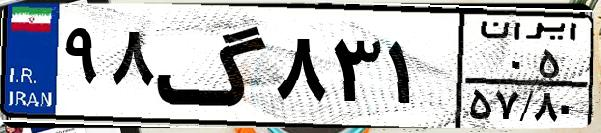0: (560, 70, 590, 125), (508, 27, 537, 80)
1: (385, 28, 445, 110)
3: (330, 28, 385, 110)
5: (537, 27, 568, 80), (470, 70, 495, 125)
7: (495, 70, 520, 125)
8: (270, 28, 330, 110), (110, 28, 156, 98), (535, 70, 560, 125)
9: (57, 26, 110, 100)
گ: (156, 12, 270, 120)
